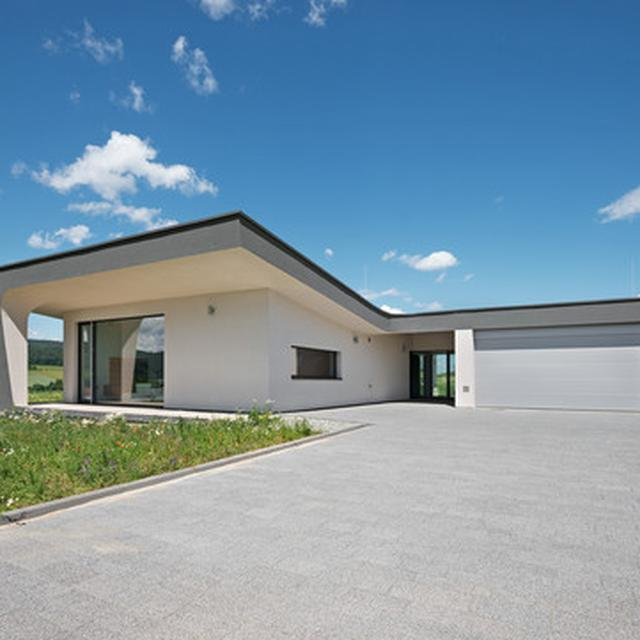building: (1, 208, 640, 414)
